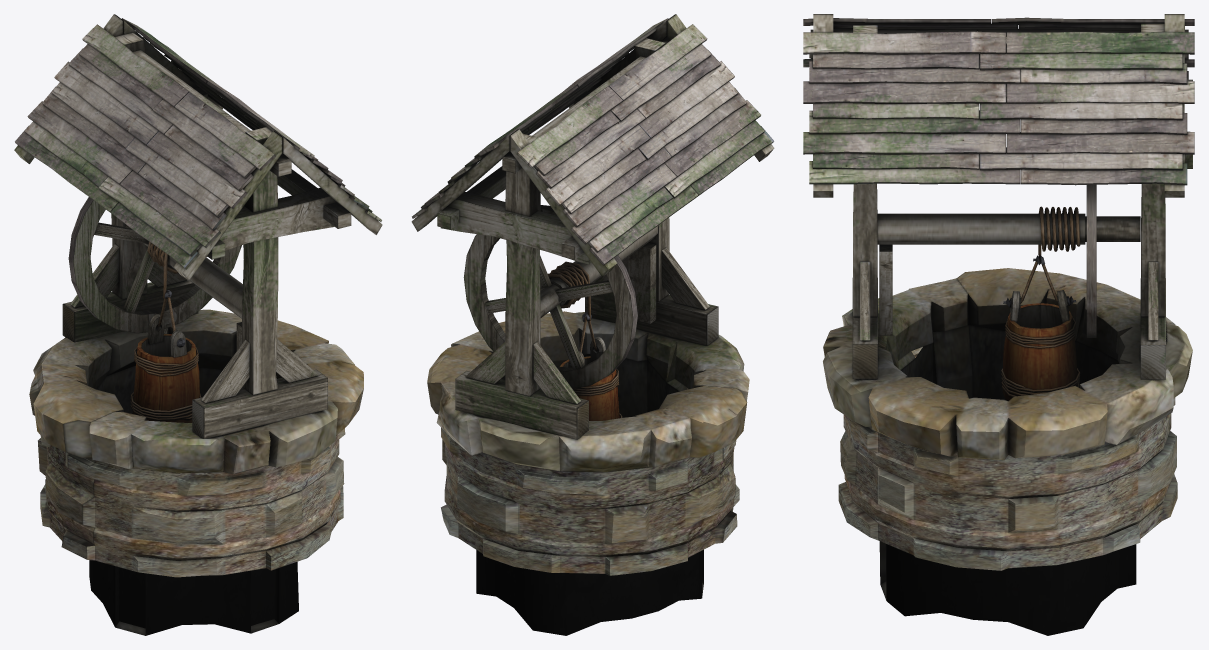
The model's file is Well_SL_SM.dae.
The picture shows the model from 3 angles, left to right: view 1: azimuth 30°, elevation 25°; view 2: azimuth 150°, elevation 25°; view 3: azimuth 270°, elevation 25°; orthographic projection. The views are drawn at different scales.
Parts seen in each view (by area): view 1: sunDirection; view 2: sunDirection; view 3: sunDirection.
Part boxes in pixels (x1=…): sunDirection: x1=14, y1=14, x2=382, y2=635; sunDirection: x1=411, y1=14, x2=774, y2=635; sunDirection: x1=803, y1=14, x2=1194, y2=635.
Bounding box in the file's own units: 717 × 1203 × 748.
